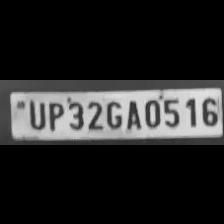0: (142, 95, 160, 127)
1: (181, 94, 199, 126)
2: (84, 97, 104, 129)
3: (64, 97, 84, 129)
5: (160, 94, 182, 128)
6: (198, 93, 220, 126)
A: (123, 96, 141, 130)
G: (104, 97, 122, 128)
P: (44, 98, 64, 130)
U: (26, 98, 46, 130)
